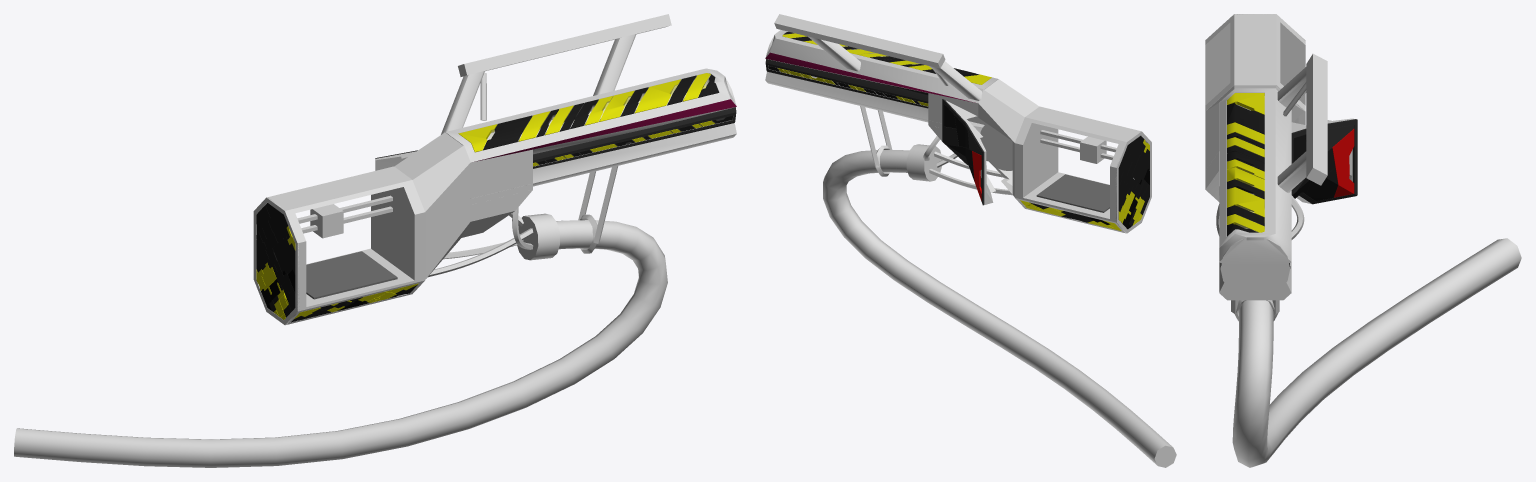
The picture shows the model from 3 angles, left to right: view 1: azimuth 30°, elevation 25°; view 2: azimuth 150°, elevation 25°; view 3: azimuth 270°, elevation 25°; orthographic projection. The views are drawn at different scales.
Parts seen in each view (by area): view 1: tube_object1; view 2: tube_object1; view 3: tube_object1.
Part boxes in pixels (<box>): tube_object1: <box>14,14,736,467</box>; tube_object1: <box>765,14,1176,467</box>; tube_object1: <box>1205,14,1521,467</box>.
Bounding box in the file's own units: 11.42 × 6.7 × 4.54.
